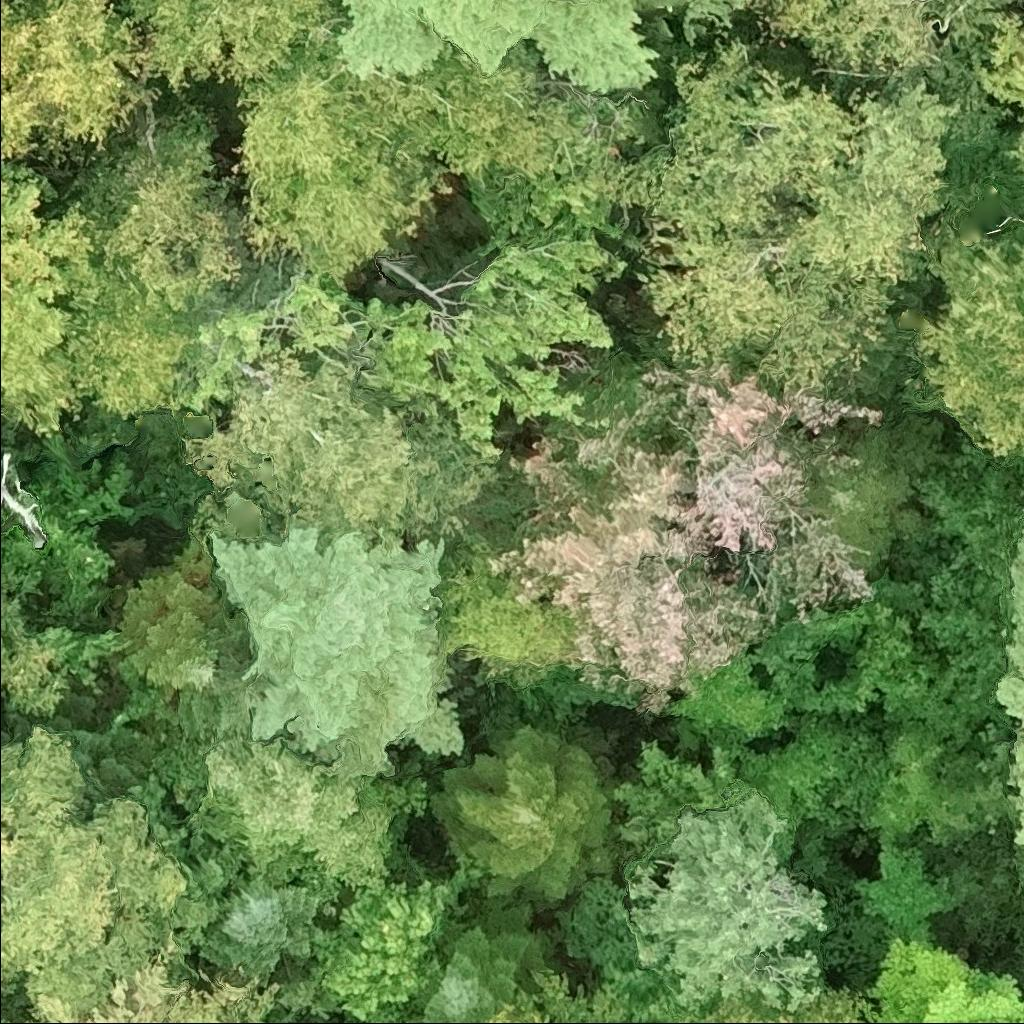crown: (637, 33, 965, 396), (490, 362, 782, 717), (185, 231, 630, 463), (61, 105, 295, 419), (206, 523, 467, 781), (360, 41, 673, 255), (181, 351, 503, 552), (641, 360, 886, 622), (0, 719, 193, 1016), (230, 40, 456, 284), (143, 730, 427, 917), (623, 783, 835, 1015), (424, 699, 623, 906), (336, 0, 749, 96), (113, 523, 252, 747), (306, 853, 489, 1023), (913, 210, 1023, 464), (0, 0, 165, 163), (830, 710, 1012, 849), (0, 164, 92, 438), (116, 0, 352, 96), (34, 931, 280, 1023), (436, 530, 577, 689), (400, 895, 566, 1023), (740, 706, 884, 850), (744, 0, 946, 92), (852, 829, 985, 948), (858, 934, 1023, 1023), (194, 870, 324, 982), (669, 655, 794, 763), (992, 528, 1023, 850), (0, 575, 66, 714), (657, 985, 870, 1023), (483, 969, 627, 1023), (973, 10, 1023, 113), (0, 448, 49, 552), (991, 134, 1023, 210), (0, 1004, 44, 1023)
